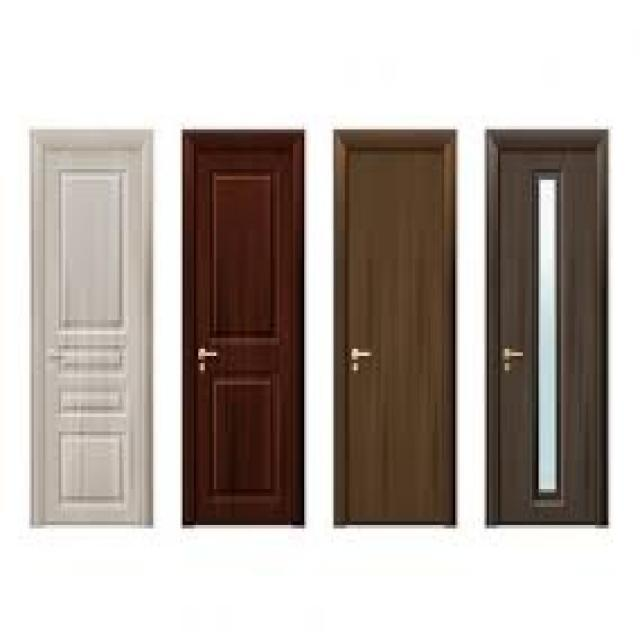door: (183, 128, 304, 526)
